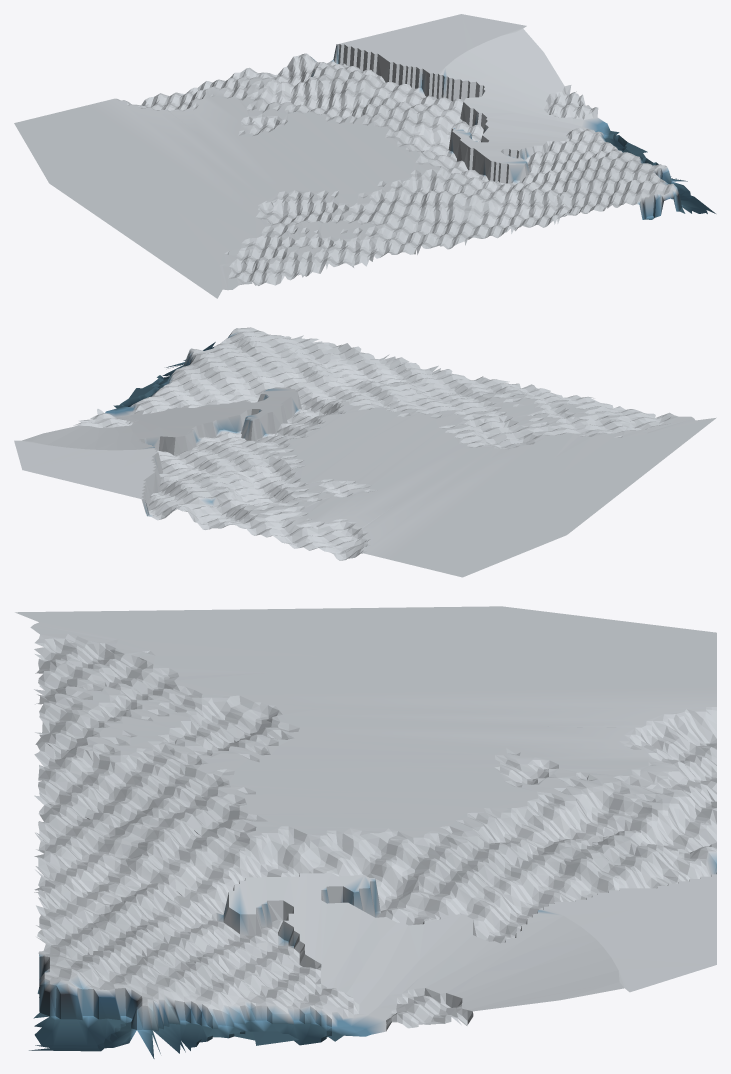
File: frost_tile_x1z0_lod1.glb
3 views of the same model, one above another, from view 1: azimuth 30°, elevation 25°; view 2: azimuth 150°, elevation 25°; view 3: azimuth 270°, elevation 25° (orthographic). The views are drawn at different scales.
Parts seen in each view (by area): view 1: geometry_0; view 2: geometry_0; view 3: geometry_0.
Boxes of the visible parts, x1,y1,x2,y2 form: geometry_0: (14, 14, 715, 298); geometry_0: (14, 327, 716, 577); geometry_0: (15, 606, 716, 1058).
Bounding box in the file's own units: 1020 × 78.3 × 778.
